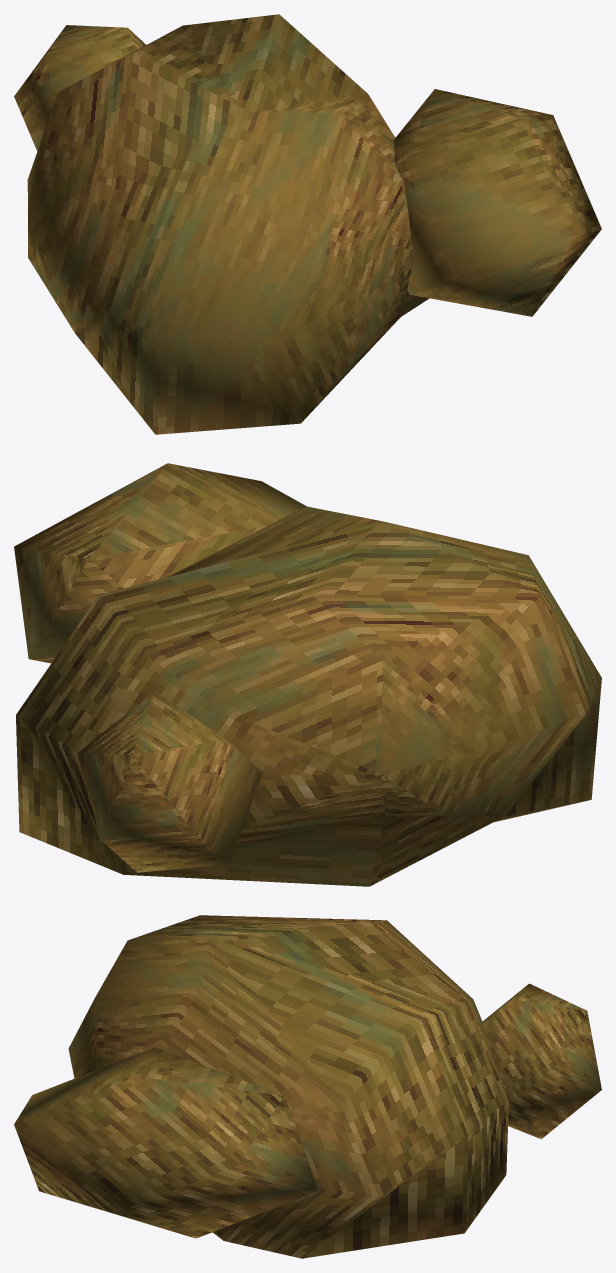
File: stone02.obj
The picture shows the model from 3 angles, top to bottom: view 1: azimuth 30°, elevation 25°; view 2: azimuth 150°, elevation 25°; view 3: azimuth 270°, elevation 25°; orthographic projection. The views are drawn at different scales.
Visible parts, largest first — view 1: Sphere01, Duplicate01, Sphere02; view 2: Sphere01, Duplicate01, Sphere02; view 3: Sphere01, Duplicate01, Sphere02.
Part boxes in pixels (left/top/right/bottom): Sphere01: left=27, top=14, right=429, bottom=434; Duplicate01: left=394, top=89, right=601, bottom=316; Sphere02: left=14, top=25, right=145, bottom=151; Sphere01: left=16, top=506, right=601, bottom=886; Duplicate01: left=14, top=463, right=306, bottom=663; Sphere02: left=77, top=691, right=262, bottom=872; Sphere01: left=68, top=915, right=508, bottom=1258; Duplicate01: left=14, top=1047, right=318, bottom=1238; Sphere02: left=481, top=983, right=601, bottom=1139.
Bounding box in the file's own units: 16.88 × 9.32 × 18.94.
